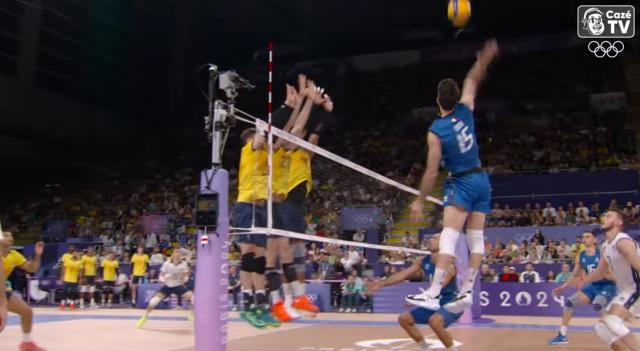Levantador: (243, 106, 271, 328)
Libero: (588, 206, 640, 350), (150, 250, 192, 310)
bola: (449, 0, 471, 24)
